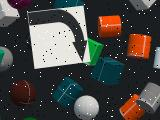Right: (28, 5, 90, 69)
